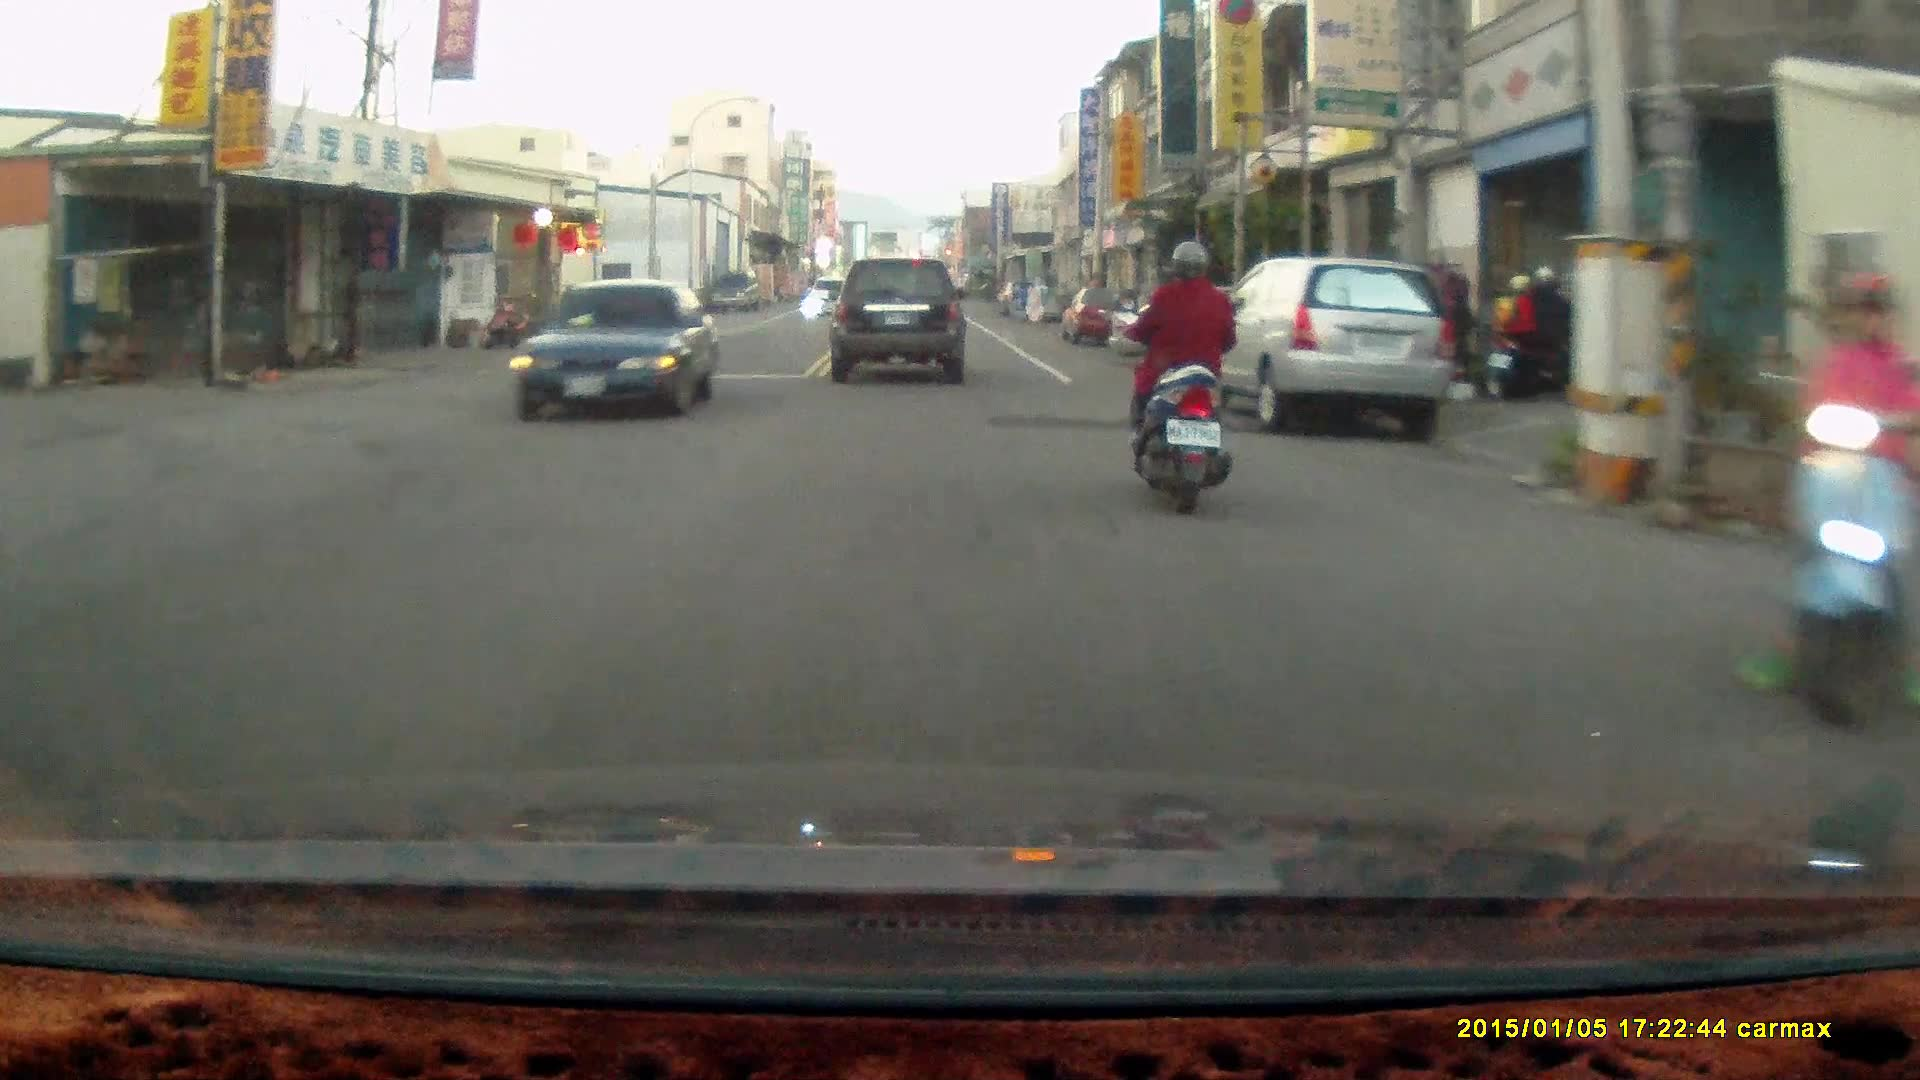rider: (1738, 271, 1920, 732), (1120, 237, 1234, 516), (1490, 259, 1571, 399)
vehicle: (1194, 261, 1450, 442), (512, 279, 720, 425), (828, 258, 968, 388), (1061, 287, 1138, 346)
